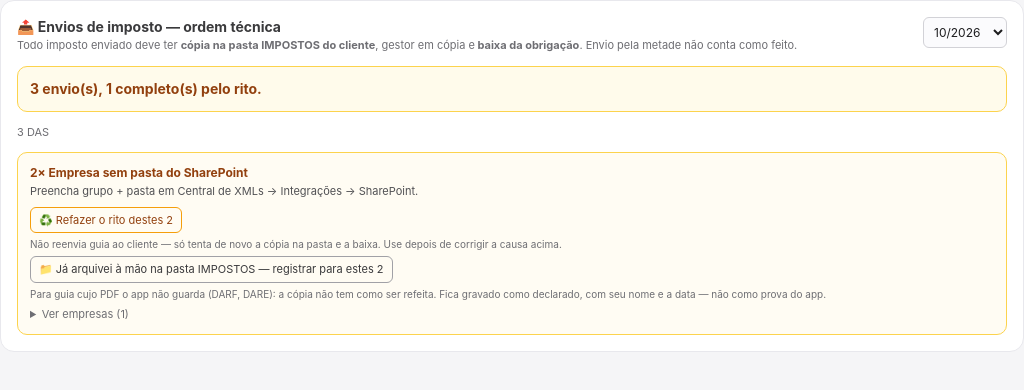
Test: o resultado DIZ o que não deu › erro do backend chega à tela como está
The image size is (1024, 390).
Click the button "♻️ Refazer o rito destes 2" at point(106, 220), box [30,206,182,233]
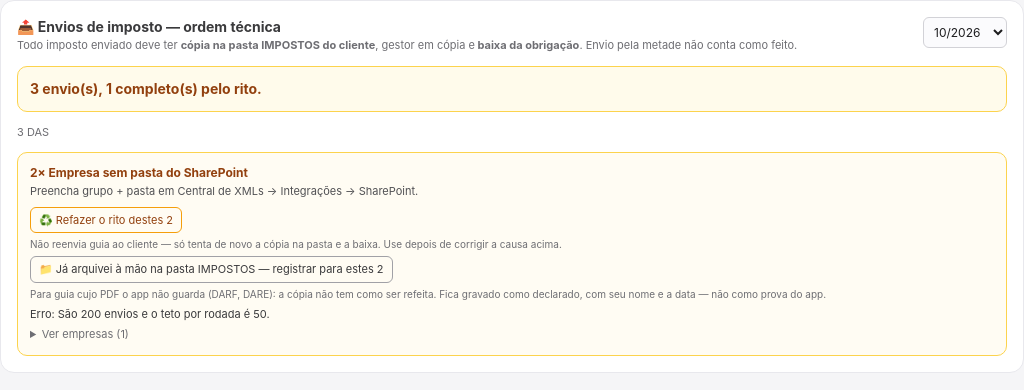
Result: the text "teto por rodada é 50" is shown at [30,306,270,320]
